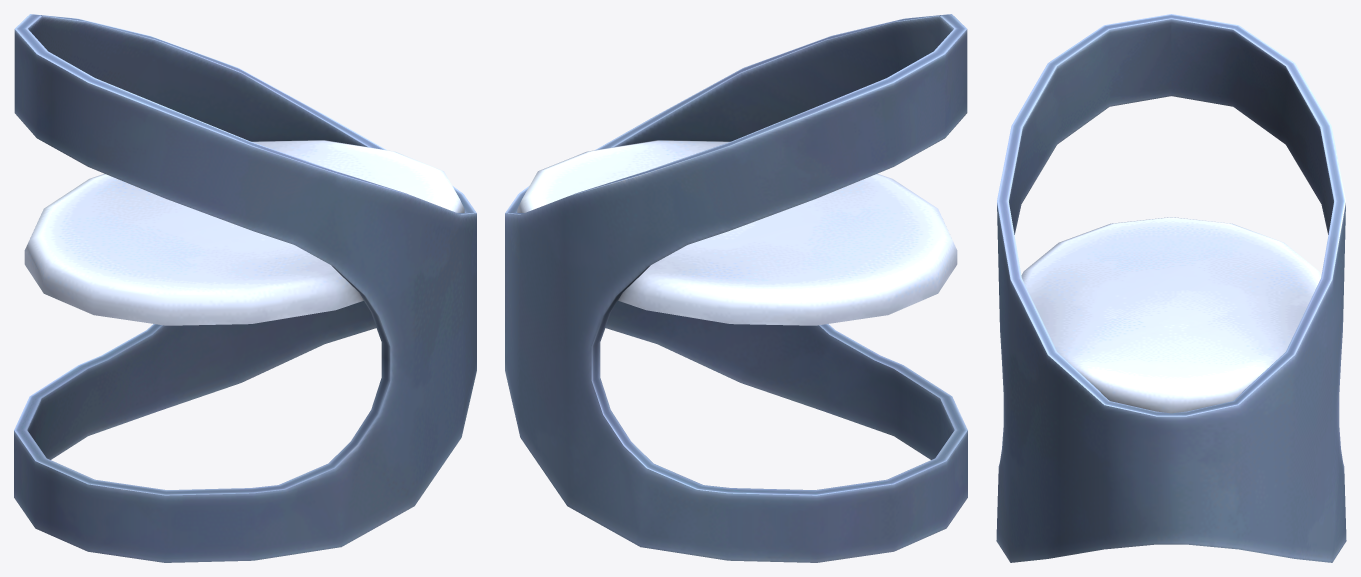
The model's file is obj_seat01.gltf.
3 views of the same model, side by side, from view 1: azimuth 30°, elevation 25°; view 2: azimuth 150°, elevation 25°; view 3: azimuth 270°, elevation 25° (orthographic). The views are drawn at different scales.
Parts seen in each view (by area): view 1: obj_seat01; view 2: obj_seat01; view 3: obj_seat01.
Boxes of the visible parts, <box> form: obj_seat01: <box>14,14,476,562</box>; obj_seat01: <box>505,14,967,562</box>; obj_seat01: <box>996,14,1346,562</box>.
Size of what is drawn, in the model's own units: 0.9629 by 1.04 by 0.7593.
1 material, 1 textured.
